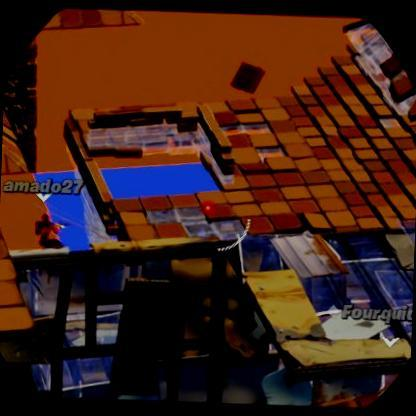person: (40, 210, 69, 272)
